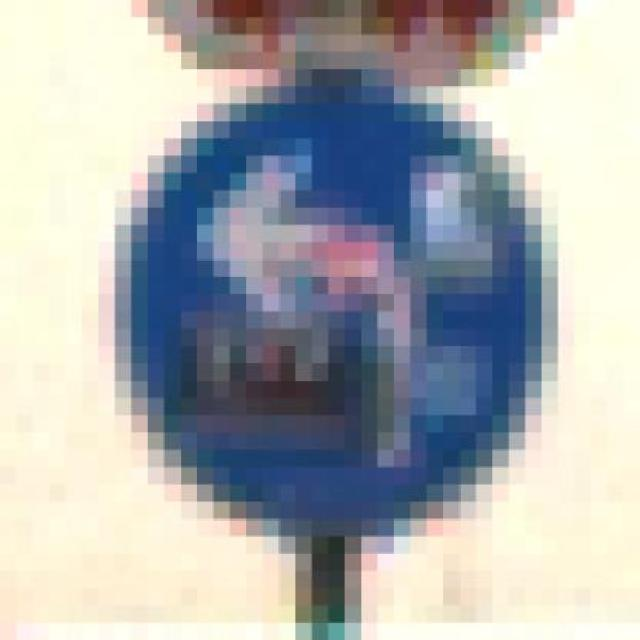Turn left ahead: (81, 84, 573, 536)
